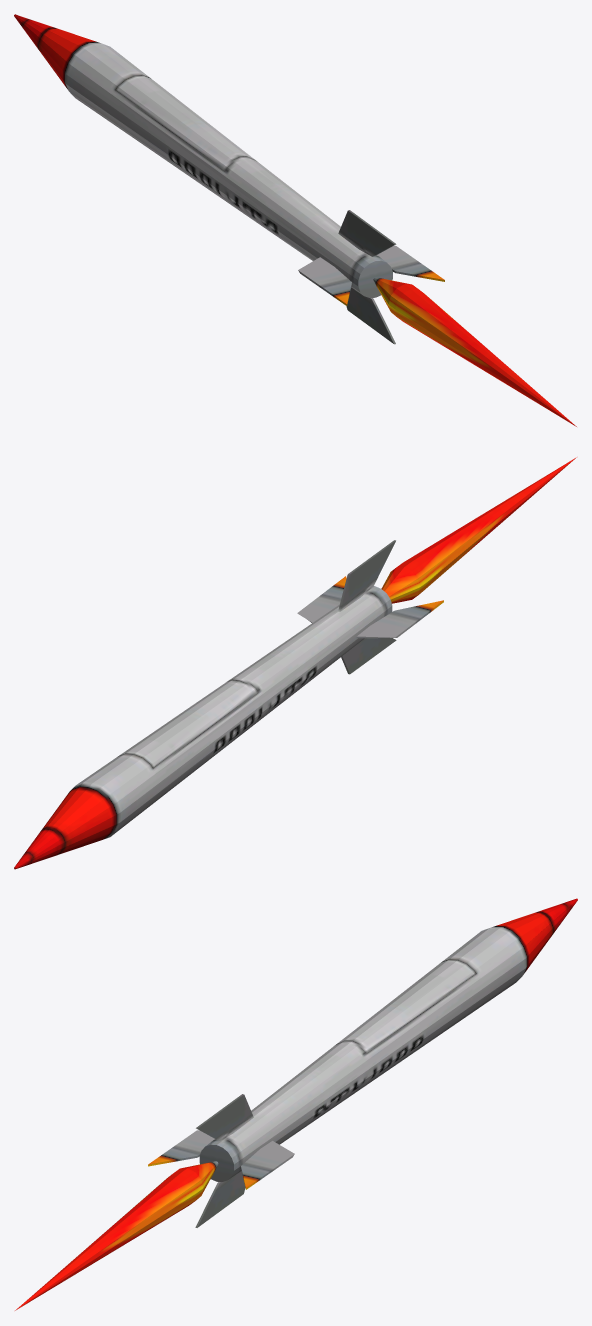
File: Missile.glb
3 views of the same model, one above another, from view 1: azimuth 30°, elevation 25°; view 2: azimuth 150°, elevation 25°; view 3: azimuth 330°, elevation 25° (orthographic).
Parts seen in each view (by area): view 1: Missile; view 2: Missile; view 3: Missile.
Boxes of the visible parts, left/top/right/bottom form: Missile: left=14, top=14, right=576, bottom=426; Missile: left=14, top=457, right=576, bottom=869; Missile: left=15, top=898, right=577, bottom=1310.
Size of the model in its own units: 8.57 by 8.32 by 85.18.
1 material, 1 textured.
